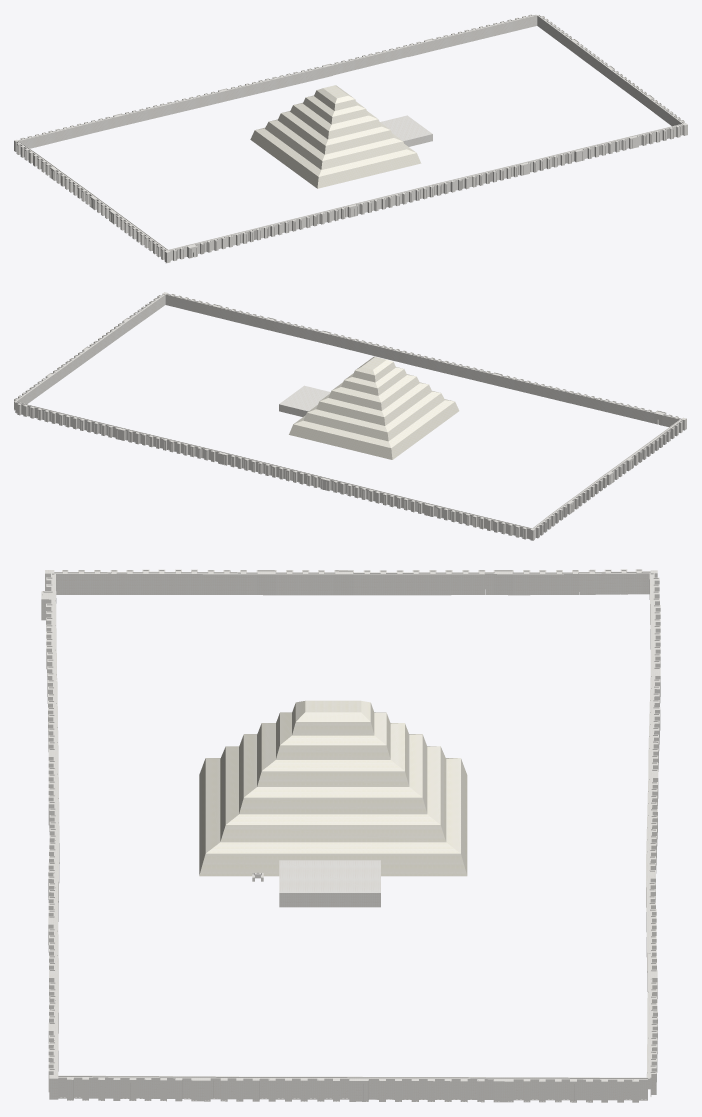
File: Djoser.glb
3 renders of one model, top to bottom at view 1: azimuth 30°, elevation 25°; view 2: azimuth 150°, elevation 25°; view 3: azimuth 270°, elevation 25°, orthographic. The views are drawn at different scales.
Parts seen in each view (by area): view 1: Mesh82 Model, Mesh9 Component_1_9 Model, Mesh6 Component_1_6 Model, Mesh1 Component_1_1 Model, Mesh2 Component_1_2 Model, Mesh3 Component_1_3 Model, Mesh7 Component_1_7 Model, Mesh8 Component_1_8 Model, Mesh5 Component_1_5 Model, Mesh4 Component_1_4 Model; view 2: Mesh82 Model, Mesh5 Component_1_5 Model, Mesh1 Component_1_1 Model, Mesh9 Component_1_9 Model, Mesh6 Component_1_6 Model, Mesh2 Component_1_2 Model, Mesh7 Component_1_7 Model, Mesh3 Component_1_3 Model, Mesh8 Component_1_8 Model, Mesh4 Component_1_4 Model; view 3: Mesh82 Model, Mesh4 Component_1_4 Model, Mesh13 Component_2_4 Model, Mesh14 Component_2_5 Model, Mesh15 Component_2_6 Model, Mesh16 Component_2_7 Model, Mesh17 Component_2_8 Model, Mesh58 Component_6_5 Model, Mesh6 Component_1_6 Model, Mesh9 Component_1_9 Model, Mesh3 Component_1_3 Model, Mesh2 Component_1_2 Model (+13 smaller).
Part boxes in pixels (bbox=[...]): Mesh82 Model: bbox=[250, 85, 432, 188]; Mesh9 Component_1_9 Model: bbox=[434, 19, 513, 50]; Mesh6 Component_1_6 Model: bbox=[122, 95, 201, 125]; Mesh1 Component_1_1 Model: bbox=[199, 223, 277, 254]; Mesh2 Component_1_2 Model: bbox=[359, 183, 436, 214]; Mesh3 Component_1_3 Model: bbox=[436, 165, 513, 195]; Mesh7 Component_1_7 Model: bbox=[228, 70, 305, 100]; Mesh8 Component_1_8 Model: bbox=[332, 45, 408, 75]; Mesh5 Component_1_5 Model: bbox=[18, 120, 96, 148]; Mesh4 Component_1_4 Model: bbox=[116, 214, 164, 257]; Mesh82 Model: bbox=[279, 356, 459, 459]; Mesh5 Component_1_5 Model: bbox=[451, 509, 531, 539]; Mesh1 Component_1_1 Model: bbox=[571, 392, 651, 422]; Mesh9 Component_1_9 Model: bbox=[37, 407, 117, 437]; Mesh6 Component_1_6 Model: bbox=[347, 483, 426, 513]; Mesh2 Component_1_2 Model: bbox=[411, 354, 490, 383]; Mesh7 Component_1_7 Model: bbox=[244, 458, 322, 487]; Mesh3 Component_1_3 Model: bbox=[335, 335, 413, 364]; Mesh8 Component_1_8 Model: bbox=[142, 433, 220, 461]; Mesh4 Component_1_4 Model: bbox=[632, 422, 678, 465]; Mesh82 Model: bbox=[199, 700, 467, 907]; Mesh4 Component_1_4 Model: bbox=[68, 569, 246, 594]; Mesh13 Component_2_4 Model: bbox=[354, 570, 419, 595]; Mesh14 Component_2_5 Model: bbox=[419, 570, 485, 595]; Mesh15 Component_2_6 Model: bbox=[513, 570, 578, 595]; Mesh16 Component_2_7 Model: bbox=[67, 1075, 129, 1100]; Mesh17 Component_2_8 Model: bbox=[129, 1076, 191, 1101]; Mesh58 Component_6_5 Model: bbox=[579, 569, 621, 594]; Mesh6 Component_1_6 Model: bbox=[648, 675, 660, 771]; Mesh9 Component_1_9 Model: bbox=[647, 978, 657, 1072]; Mesh3 Component_1_3 Model: bbox=[48, 835, 59, 921]; Mesh2 Component_1_2 Model: bbox=[48, 760, 59, 836].
Bounding box in the file's own units: 552 × 59.88 × 282.
4 materials, 3 textured.
